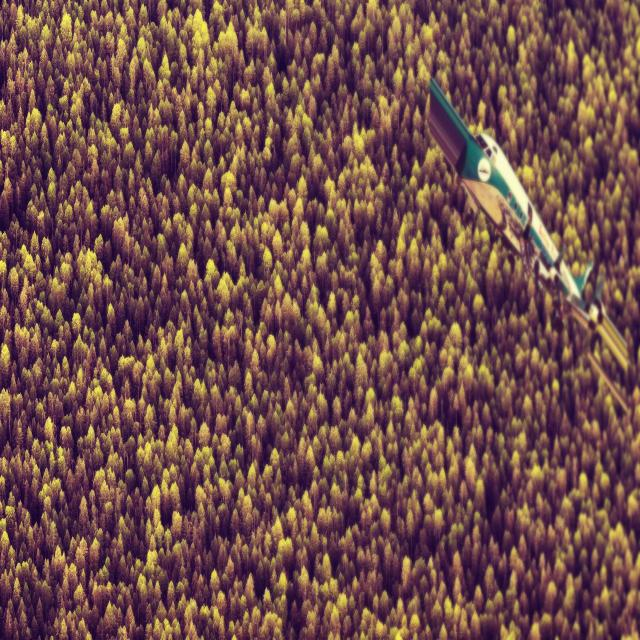airplane: (427, 76, 630, 415)
